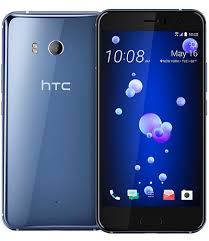htc: (97, 7, 206, 234), (1, 8, 99, 235)
